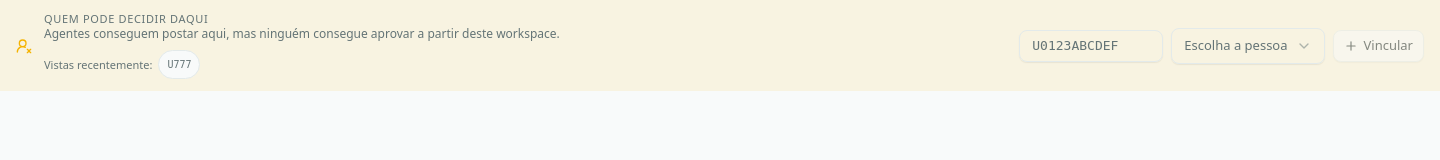
who can decide › uses a seen account as a form hint rather than a binding
Click the button "U777".
click(179, 64)  # box [158,50,200,79]
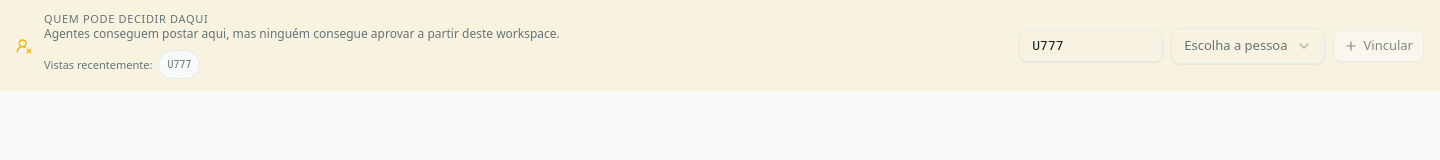
Now the field named "conta" holds "U777", box [1019,30,1163,62]
